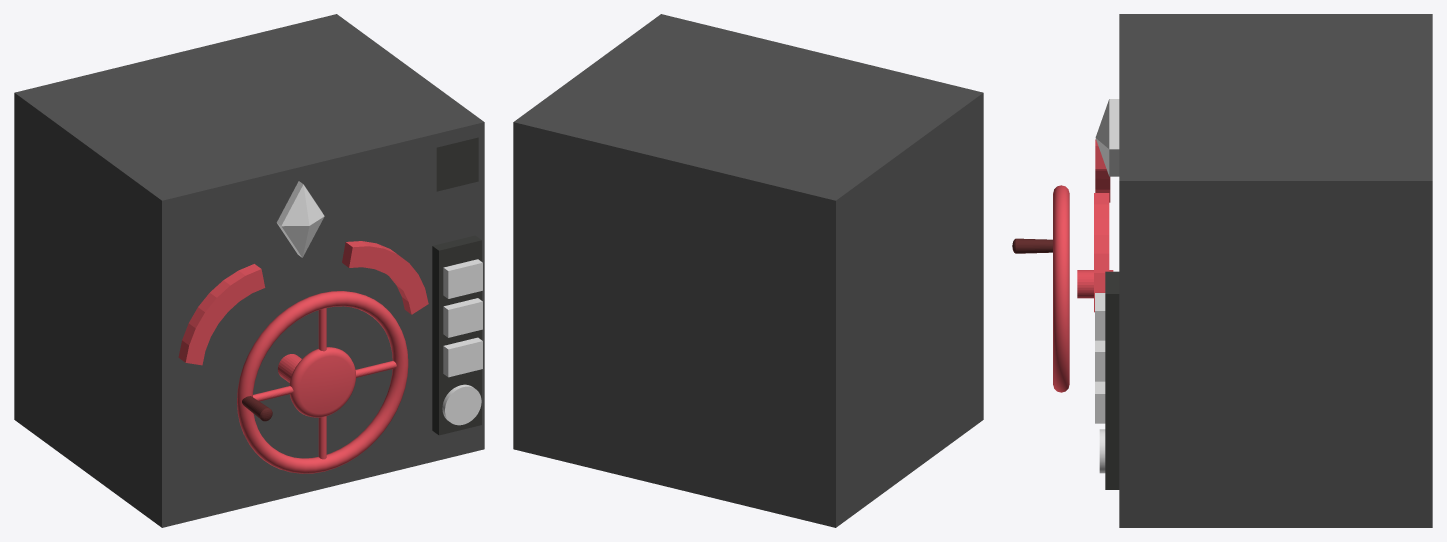
File: Handlemodule.fbx
3 views of the same model, side by side, from view 1: azimuth 30°, elevation 25°; view 2: azimuth 150°, elevation 25°; view 3: azimuth 270°, elevation 25° (orthographic). The views are drawn at different scales.
Parts seen in each view (by area): view 1: モジュール本体, handle, Cube土台, ButtonLeft, ButtonRight, ダイヤ, 平面, Cube下, Cube中, Cube上, AnswerButton; view 2: モジュール本体; view 3: モジュール本体, handle, Cube土台, ButtonRight, ダイヤ, handleparts2, ButtonLeft, Cube上, handleparts1.
Part boxes in pixels (x1=…): モジュール本体: x1=14, y1=14, x2=484, y2=527; handle: x1=237, y1=291, x2=408, y2=473; Cube土台: x1=432, y1=235, x2=481, y2=435; ButtonLeft: x1=178, y1=264, x2=265, y2=365; ButtonRight: x1=342, y1=241, x2=428, y2=314; ダイヤ: x1=276, y1=181, x2=324, y2=257; 平面: x1=436, y1=137, x2=478, y2=191; Cube下: x1=443, y1=337, x2=482, y2=377; Cube中: x1=443, y1=298, x2=482, y2=337; Cube上: x1=443, y1=259, x2=482, y2=298; AnswerButton: x1=442, y1=384, x2=481, y2=425; モジュール本体: x1=513, y1=14, x2=983, y2=527; モジュール本体: x1=1119, y1=14, x2=1432, y2=527; handle: x1=1053, y1=185, x2=1069, y2=392; Cube土台: x1=1105, y1=271, x2=1119, y2=489; ButtonRight: x1=1094, y1=193, x2=1109, y2=312; ダイヤ: x1=1095, y1=99, x2=1119, y2=176; handleparts2: x1=1012, y1=238, x2=1052, y2=253; ButtonLeft: x1=1095, y1=139, x2=1110, y2=202; Cube上: x1=1095, y1=293, x2=1105, y2=340; handleparts1: x1=1077, y1=270, x2=1113, y2=298.
Size of the model in its own units: 60.98 by 59.14 by 64.88.
